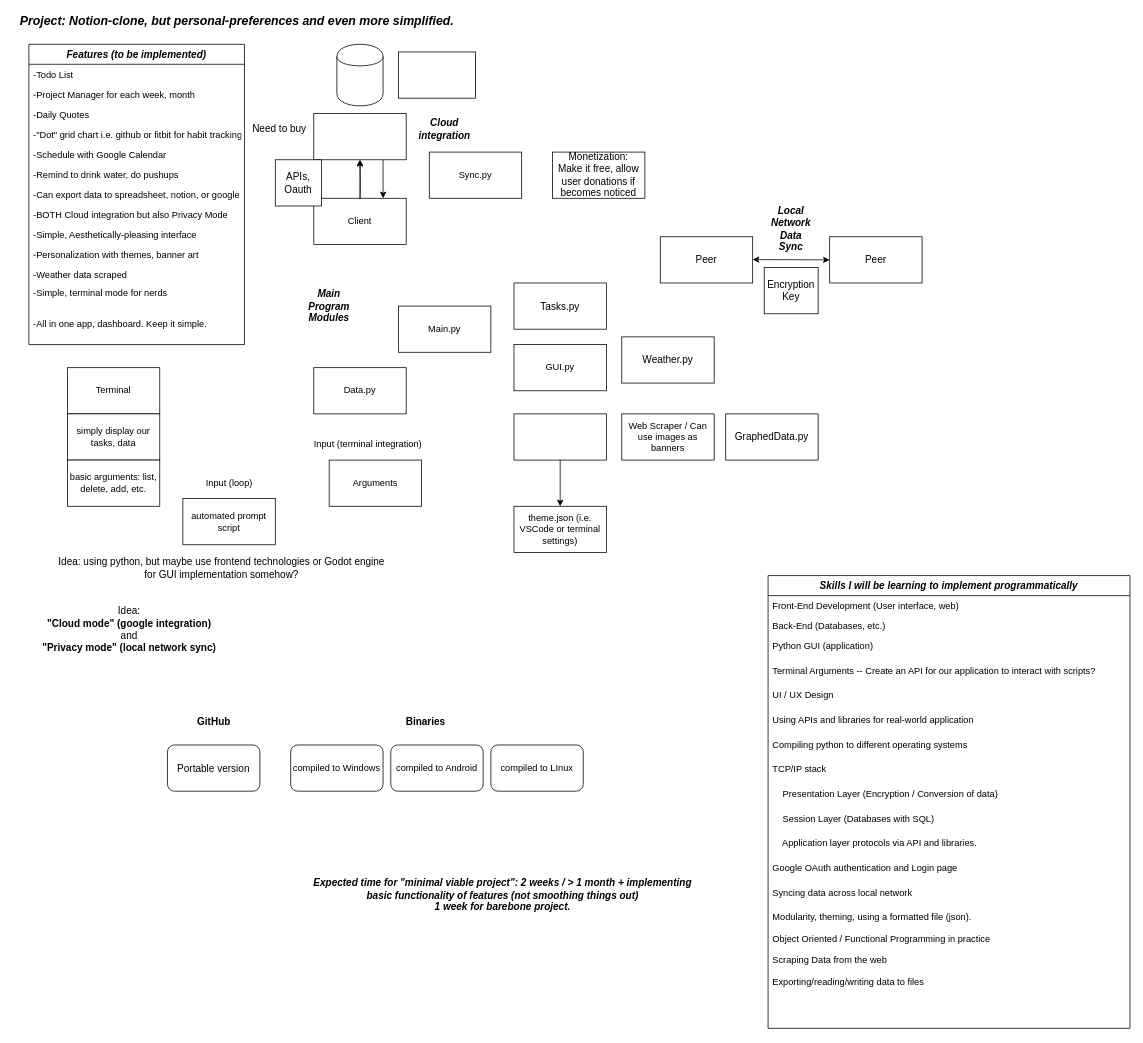
The diagram is 1143 pixels wide and 1043 high, and some of its shapes have lost their labels. The shapes that lost their labels are listed below. From the top down, each one's centre as x and y in pixels, then its label:
At pixel 359 75: "Database / Cloud".
At pixel 436 74: "Google login / OAuth (makes it easier to implement, and to use)".
At pixel 359 136: "Server".
At pixel 559 436: "Themes.py".
